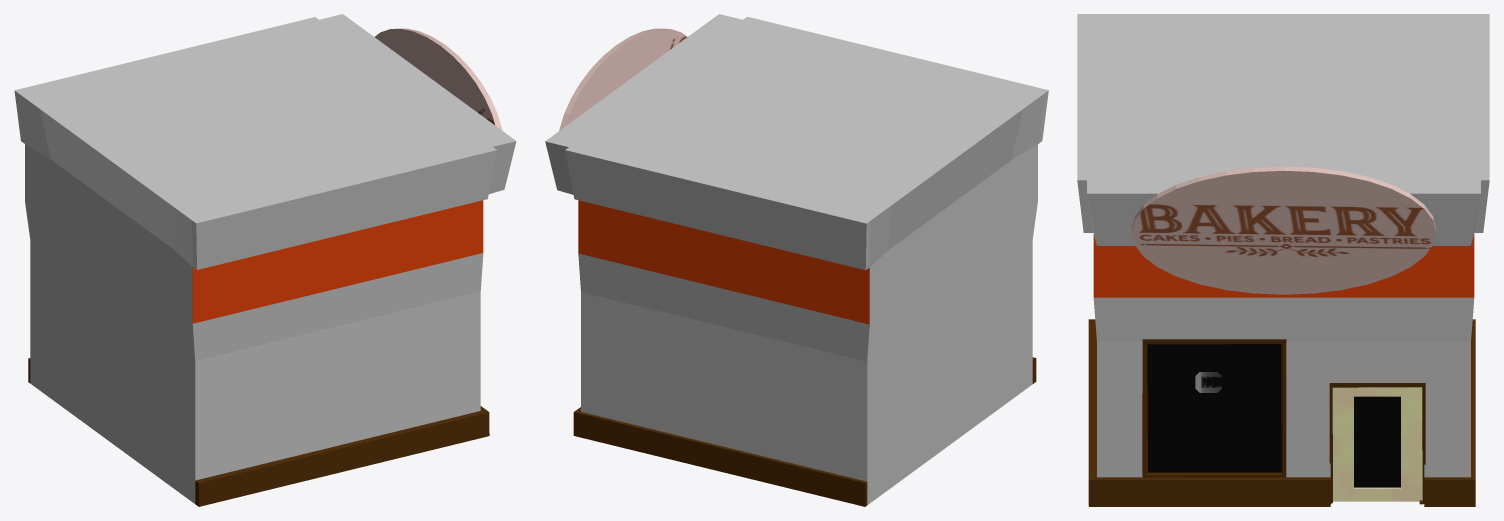
File: Bakery.fbx
3 views of the same model, side by side, from view 1: azimuth 30°, elevation 25°; view 2: azimuth 150°, elevation 25°; view 3: azimuth 270°, elevation 25° (orthographic). The views are drawn at different scales.
Parts seen in each view (by area): view 1: Cube; view 2: Cube; view 3: Cube.
Part boxes in pixels (x1=…): Cube: x1=14, y1=14, x2=516, y2=506; Cube: x1=545, y1=14, x2=1048, y2=506; Cube: x1=1077, y1=14, x2=1489, y2=506.
Size of the model in its own units: 294 by 262 by 271.
